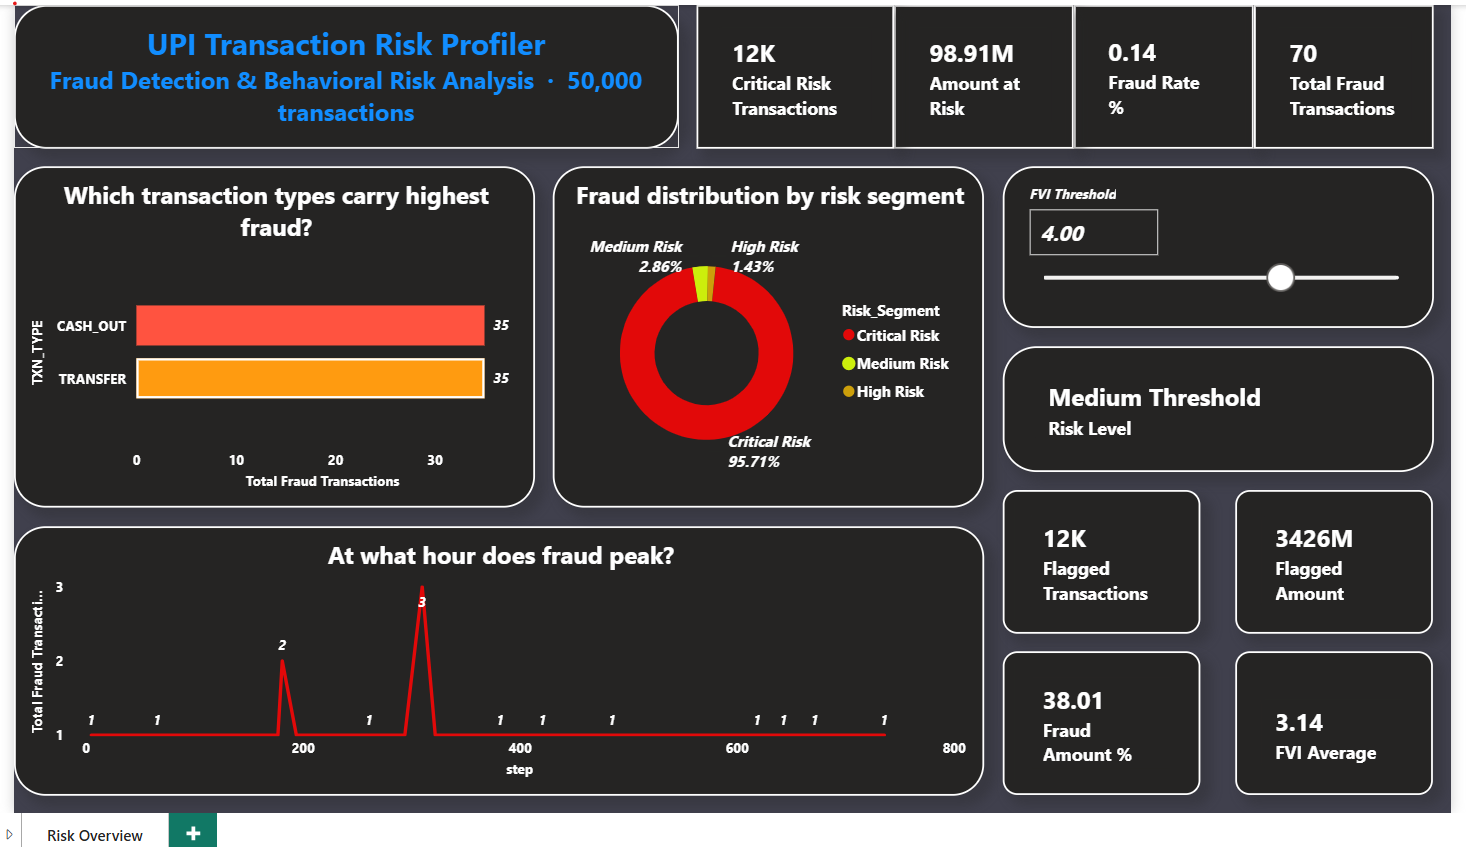

Layout of this report page (visuals, bound fields, positions):
{"tool":"powerbi","page":{"name":"Risk Overview","canvas":[1280,720],"ordinal":0},"visuals":[{"type":"cardVisual","fields":{"Data":["powerbi_data.Fraud Rate %"]},"box":[944,0,160,128],"z":0},{"type":"clusteredBarChart","title":"Which transaction types carry highest fraud?","fields":{"Category":["powerbi_data.txn_type"],"Y":["powerbi_data.Total Fraud Transactions"]},"box":[0,144,464,304],"z":1000},{"type":"lineChart","title":"At what hour does fraud peak?","fields":{"Y":["powerbi_data.Total Fraud Transactions"],"Category":["powerbi_data.step"]},"box":[0,464,864,240],"z":2000},{"type":"donutChart","title":"Fraud distribution by risk segment","fields":{"Category":["powerbi_data.Risk_Segment"],"Y":["powerbi_data.Total Fraud Transactions"]},"box":[480,144,384,304],"z":3000},{"type":"textbox","box":[0,0,592,128],"z":4000},{"type":"cardVisual","fields":{"Data":["powerbi_data.Total Fraud Transactions"]},"box":[1104,0,160,128],"z":5000},{"type":"cardVisual","fields":{"Data":["powerbi_data.Amount at Risk"]},"box":[784,0,160,128],"z":6000},{"type":"slicer","fields":{"Values":["FVI Threshold.FVI Threshold"]},"box":[880,144,384,144],"z":7000},{"type":"cardVisual","fields":{"Data":["powerbi_data.Flagged Transactions"]},"box":[880,432,176,128],"z":8000},{"type":"cardVisual","fields":{"Data":["powerbi_data.Flagged Amount"]},"box":[1088,432,176,128],"z":9000},{"type":"cardVisual","title":"FVI Average","fields":{"Data":["Avg(powerbi_data.fvi)"]},"box":[1088,576,176,128],"z":10000},{"type":"cardVisual","fields":{"Data":["powerbi_data.Fraud Amount %"]},"box":[880,576,176,128],"z":11000},{"type":"cardVisual","fields":{"Data":["powerbi_data.Risk Level"]},"box":[880,304,384,112],"z":12000},{"type":"cardVisual","fields":{"Data":["powerbi_data.Critical Risk Transactions"]},"box":[608,0,176,128],"z":12001}]}

Visuals, with their boxes in screenshot pixels (x1, y1, x2, y2):
cardVisual - powerbi_data.Fraud Rate %: {"left": 1074, "top": 0, "right": 1255, "bottom": 145}
"Which transaction types carry highest fraud?" clusteredBarChart: {"left": 8, "top": 163, "right": 532, "bottom": 506}
"At what hour does fraud peak?" lineChart: {"left": 8, "top": 524, "right": 984, "bottom": 795}
"Fraud distribution by risk segment" donutChart: {"left": 550, "top": 163, "right": 984, "bottom": 506}
textbox: {"left": 8, "top": 0, "right": 676, "bottom": 145}
cardVisual - powerbi_data.Total Fraud Transactions: {"left": 1255, "top": 0, "right": 1435, "bottom": 145}
cardVisual - powerbi_data.Amount at Risk: {"left": 893, "top": 0, "right": 1074, "bottom": 145}
slicer - FVI Threshold.FVI Threshold: {"left": 1002, "top": 163, "right": 1435, "bottom": 325}
cardVisual - powerbi_data.Flagged Transactions: {"left": 1002, "top": 488, "right": 1200, "bottom": 633}
cardVisual - powerbi_data.Flagged Amount: {"left": 1237, "top": 488, "right": 1435, "bottom": 633}
"FVI Average" cardVisual: {"left": 1237, "top": 651, "right": 1435, "bottom": 795}
cardVisual - powerbi_data.Fraud Amount %: {"left": 1002, "top": 651, "right": 1200, "bottom": 795}
cardVisual - powerbi_data.Risk Level: {"left": 1002, "top": 343, "right": 1435, "bottom": 470}
cardVisual - powerbi_data.Critical Risk Transactions: {"left": 694, "top": 0, "right": 893, "bottom": 145}
